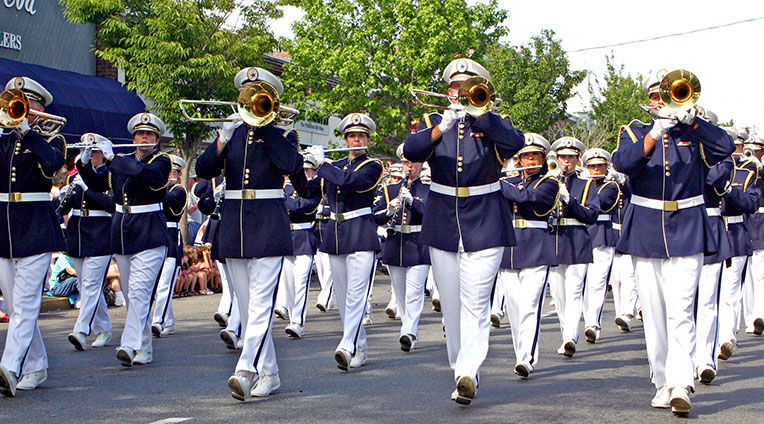feet: (216, 359, 289, 402), (645, 368, 694, 420), (1, 355, 56, 401), (382, 304, 421, 353), (691, 339, 735, 382), (60, 318, 114, 352), (326, 335, 372, 373), (442, 367, 484, 407), (111, 336, 158, 369), (505, 345, 543, 381), (273, 311, 306, 342), (216, 323, 250, 353), (607, 302, 637, 333), (576, 318, 605, 346), (313, 289, 344, 315), (553, 333, 581, 361), (147, 313, 176, 336), (197, 286, 213, 296), (184, 288, 197, 297)
